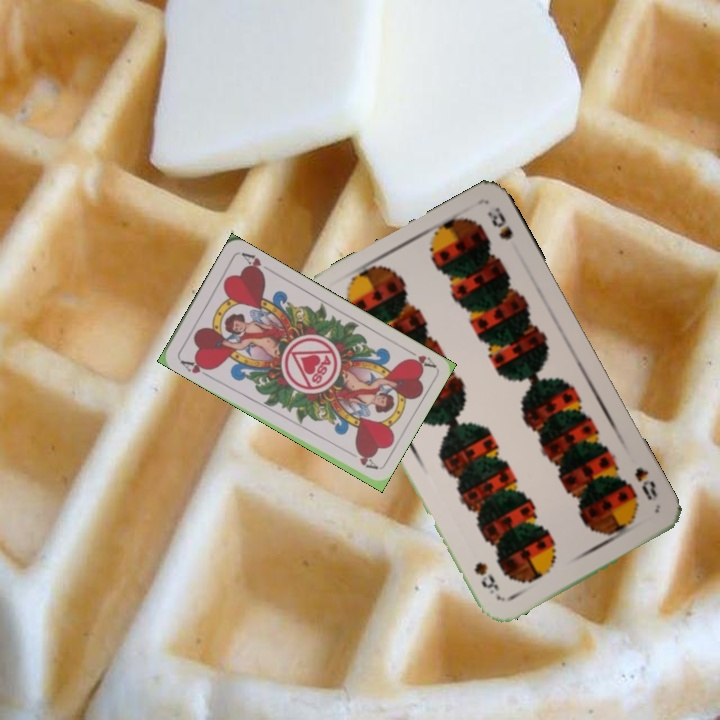HA: (175, 354, 215, 380), (400, 344, 437, 371)
S8: (630, 463, 660, 503)
